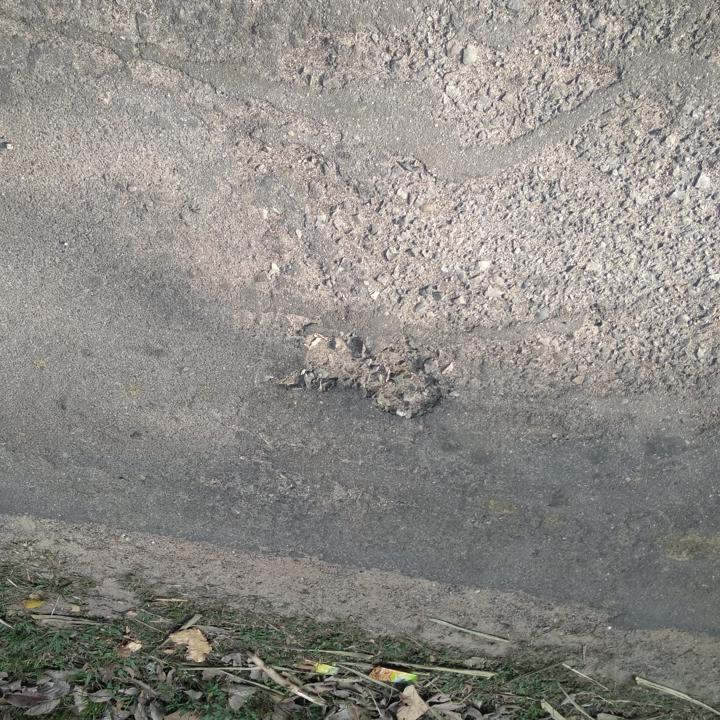pothole: (283, 329, 447, 425)
